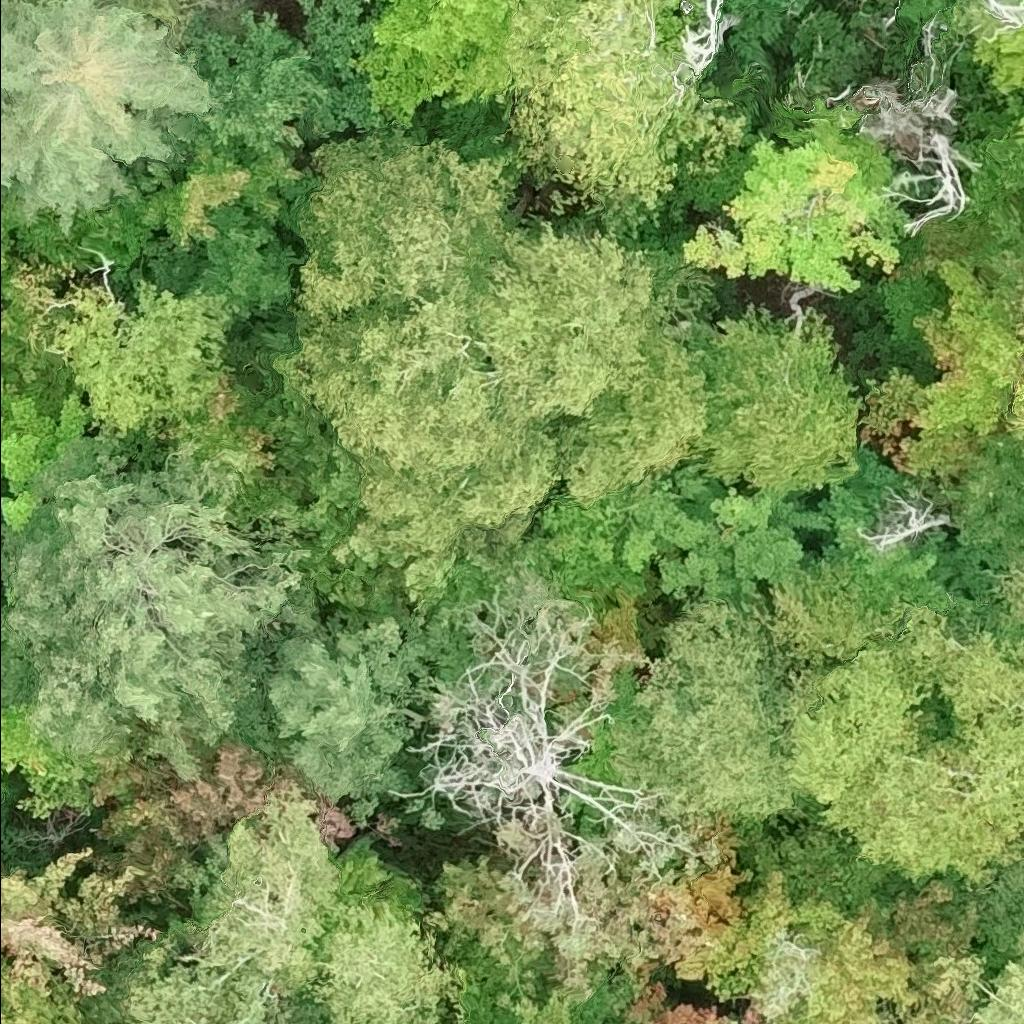crown: (11, 445, 305, 775), (273, 280, 567, 601), (466, 224, 702, 500), (784, 634, 1023, 886), (504, 0, 745, 226), (0, 0, 211, 236), (603, 604, 815, 822), (294, 137, 521, 337), (426, 815, 641, 1023), (707, 870, 994, 1023), (124, 0, 387, 155), (685, 117, 910, 288), (197, 781, 370, 991), (667, 306, 857, 494), (272, 614, 451, 813), (622, 489, 832, 630), (53, 280, 235, 433), (888, 601, 1023, 792), (900, 264, 1023, 472), (617, 814, 756, 984), (0, 850, 158, 997), (351, 0, 522, 126), (306, 894, 472, 1023), (0, 607, 99, 823), (764, 560, 916, 683), (857, 76, 979, 228), (0, 381, 107, 535), (128, 951, 309, 1023), (725, 0, 815, 73), (866, 487, 961, 551), (0, 961, 93, 1023), (972, 927, 1023, 1023), (677, 0, 737, 75), (972, 25, 1023, 92), (982, 120, 1023, 195), (984, 559, 1023, 622), (93, 0, 185, 26), (1010, 370, 1023, 430), (0, 248, 8, 270), (16, 0, 49, 2)
